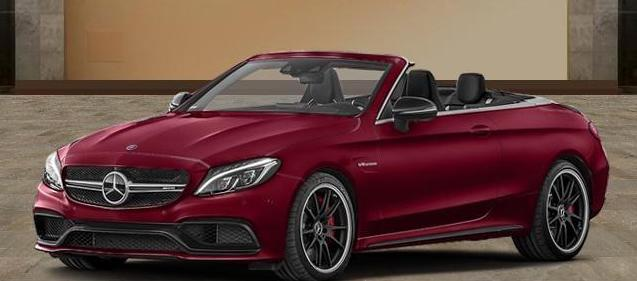C63AMG: (30, 50, 607, 281)
